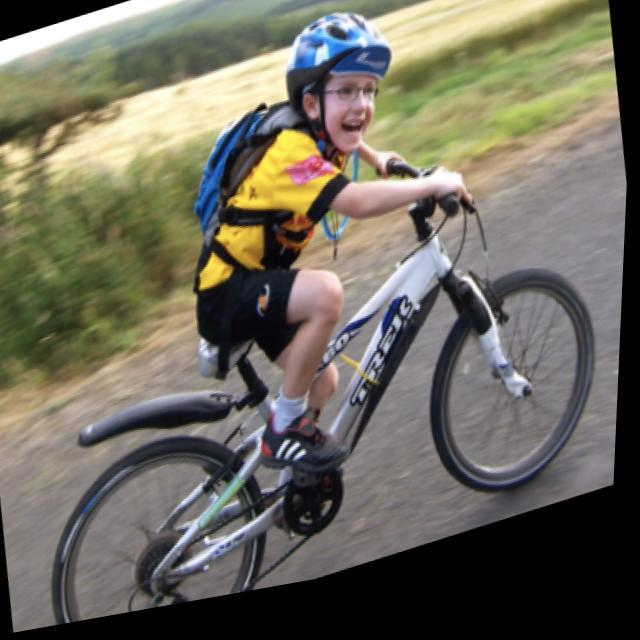Helmet: (277, 3, 393, 162)
